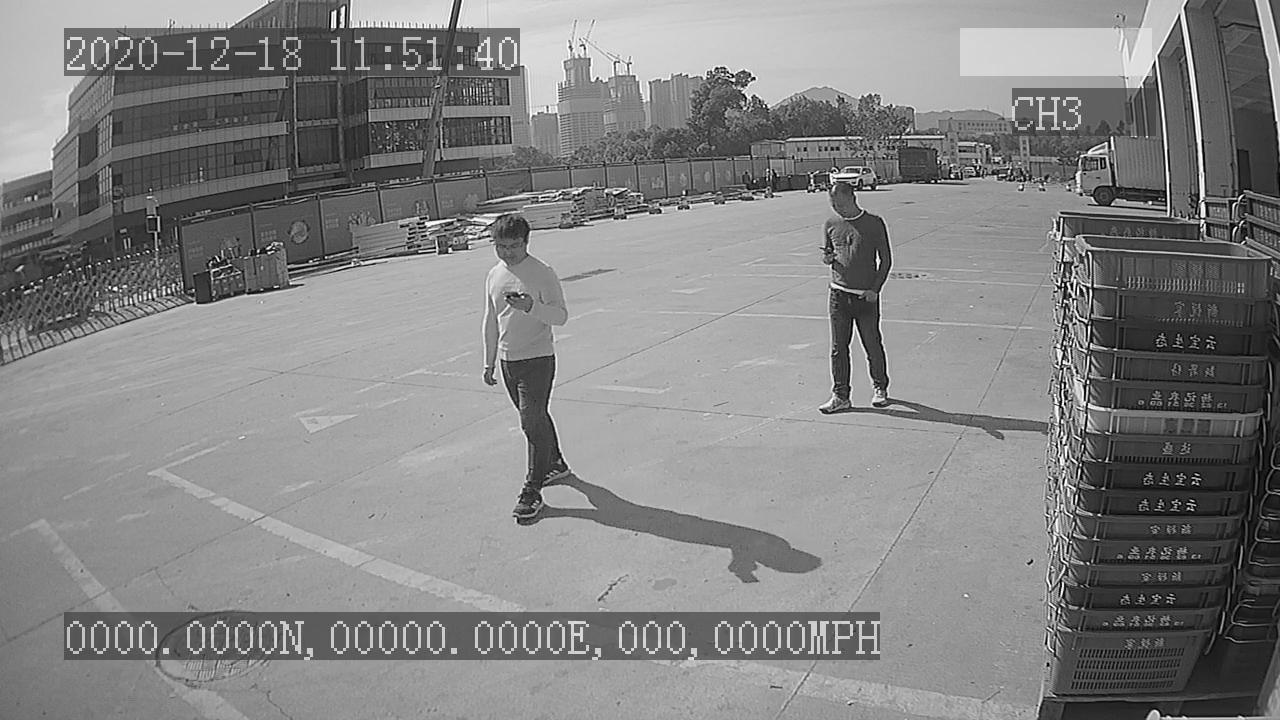person: (470, 206, 579, 527), (811, 174, 901, 420)
